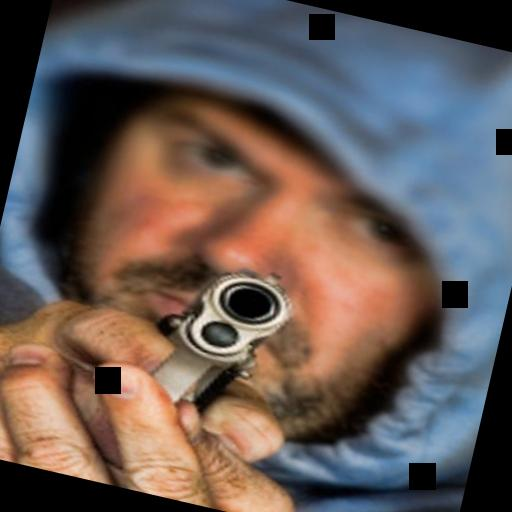Handgun: (134, 249, 300, 426)
